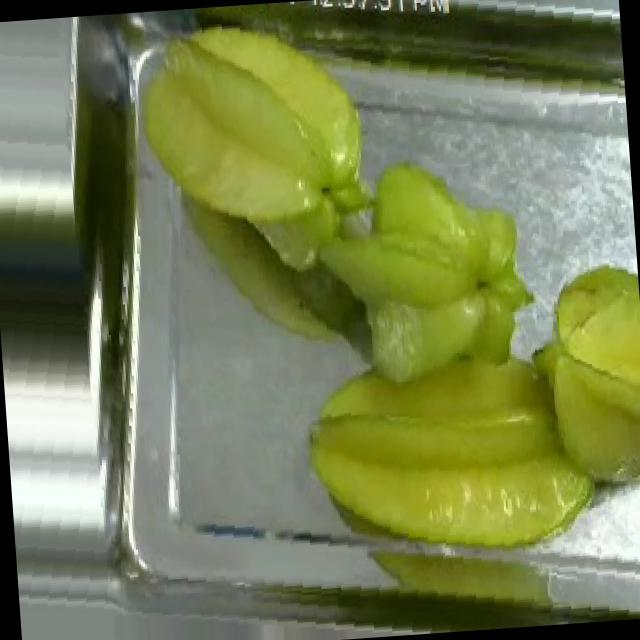fruit: (276, 307, 626, 588), (120, 0, 389, 293), (298, 131, 557, 425), (522, 246, 640, 513)
